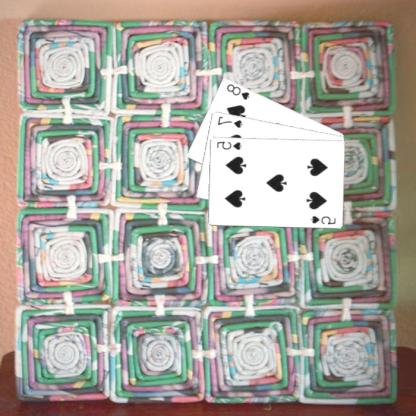5S: (216, 138, 244, 151), (310, 213, 338, 225)
7S: (216, 113, 246, 129)
8S: (225, 81, 253, 101)
